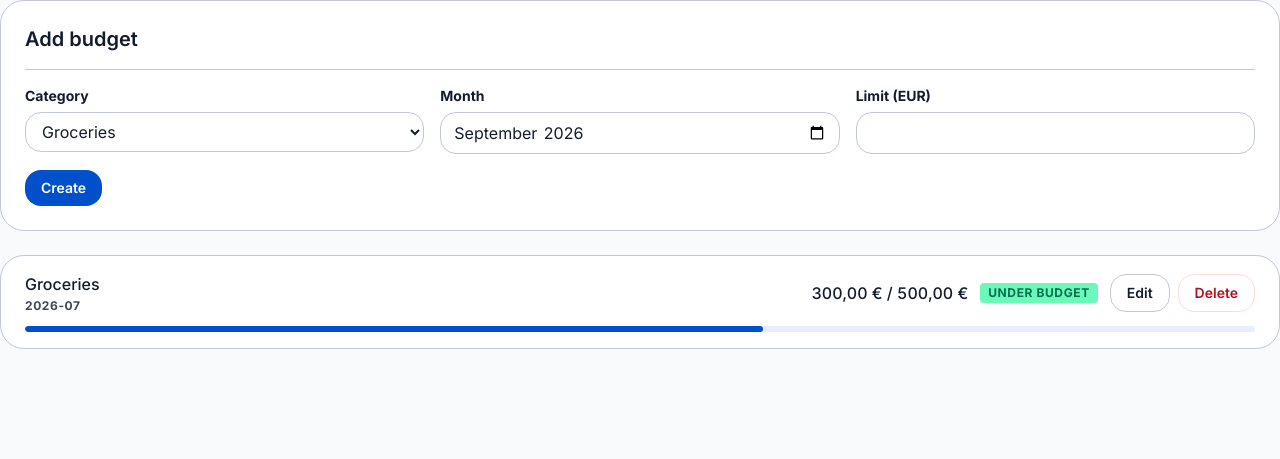
Test: BudgetsContainer › creates a new budget and refreshes the list
Expected: the list named "Budgets" is shown, x1=1 y1=256 x2=1279 y2=348
In the field labelled "Limit (EUR)": (1055,133) x1=856 y1=112 x2=1255 y2=154, type "200"
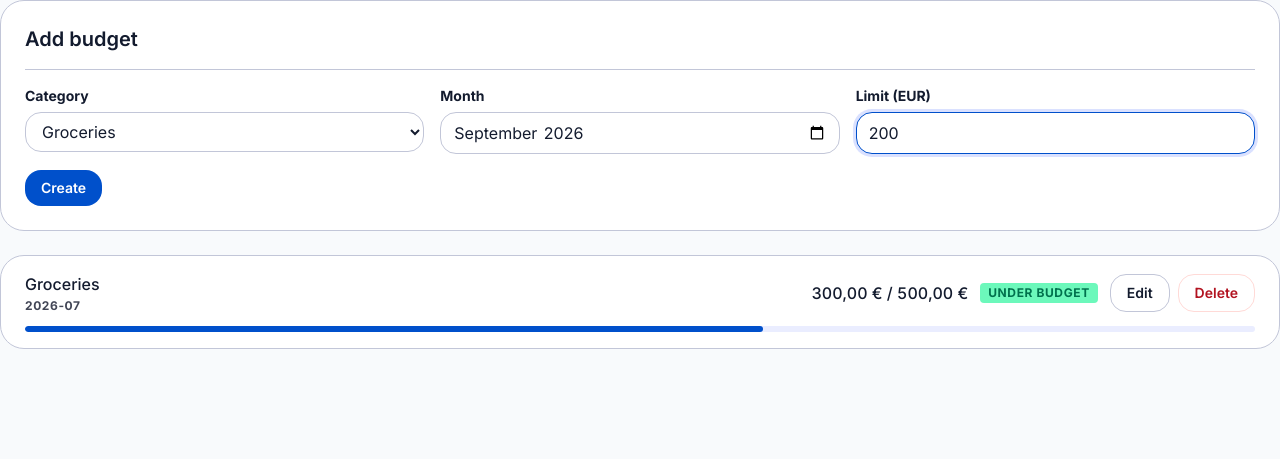
Click the button "Create": (64,188) x1=25 y1=170 x2=102 y2=206
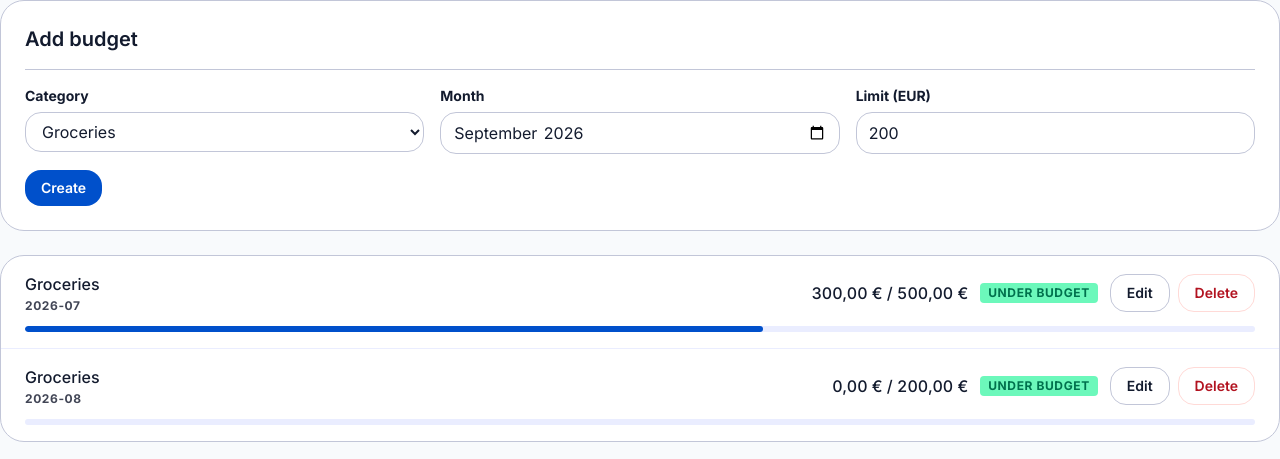
Now the text "Groceries" is shown 2 times, box x1=25 y1=274 x2=100 y2=294; x1=25 y1=367 x2=100 y2=387
